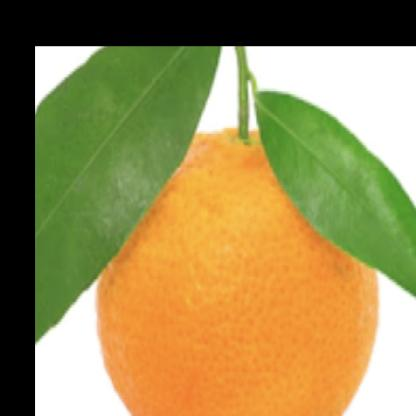fresh: (86, 89, 389, 416)
